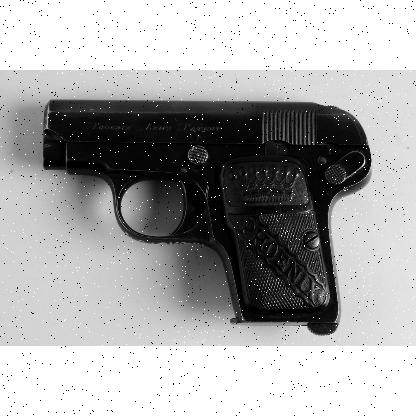gun: (43, 100, 372, 335)
